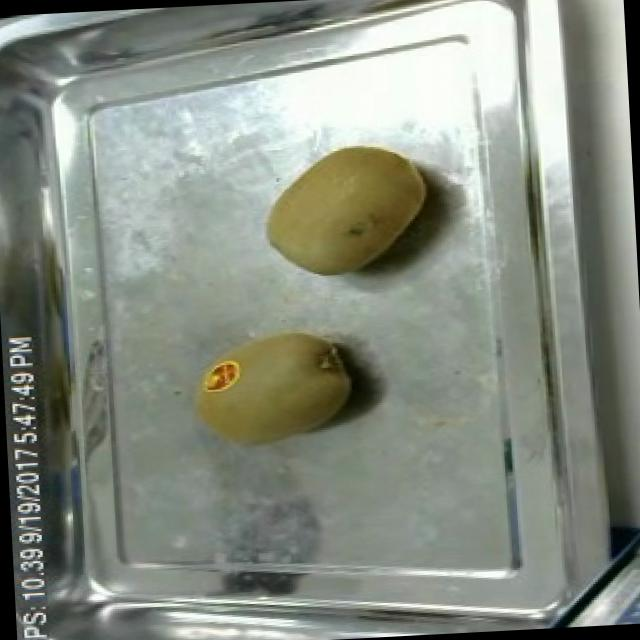Fruit: (252, 132, 439, 289), (178, 318, 362, 457)
